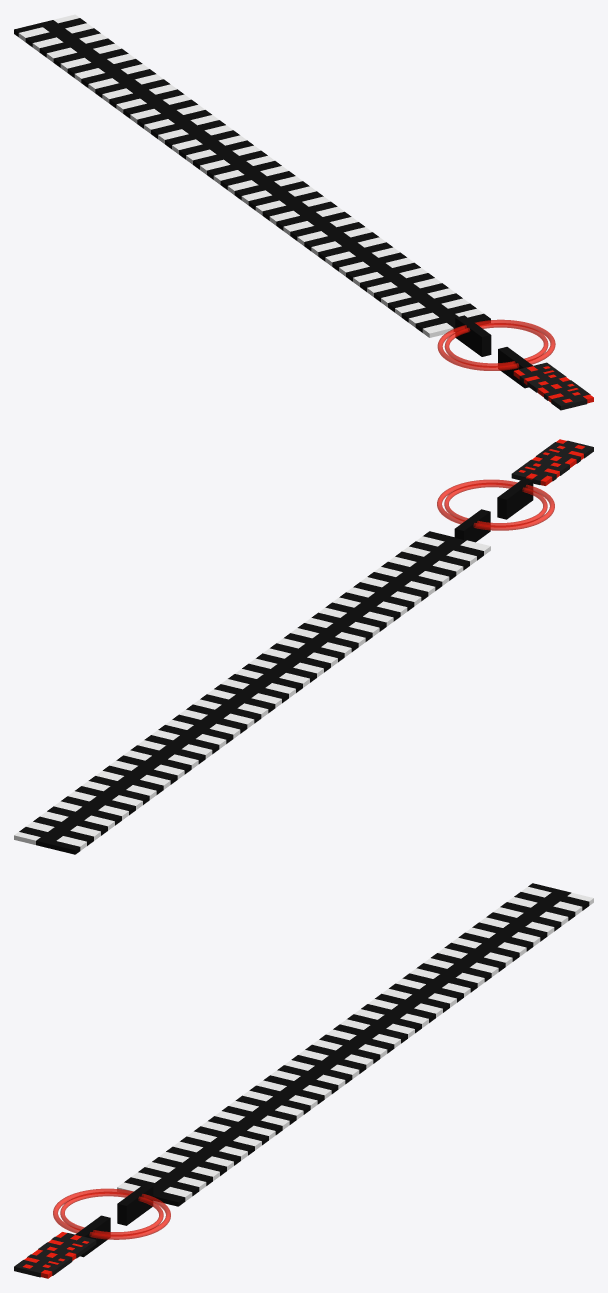
Rendered from LargeBridgeLast.FBX.
3 renders of one model, top to bottom at view 1: azimuth 30°, elevation 25°; view 2: azimuth 150°, elevation 25°; view 3: azimuth 330°, elevation 25°, orthographic.
Visible parts, largest first — view 1: Box096, Box095, Box092, Box004, Box006, Cylinder001, Box091, Cylinder003; view 2: Box096, Box095, Box091, Box006, Box092, Box004, Cylinder001, Cylinder003; view 3: Box096, Box095, Box092, Box004, Box006, Cylinder003, Box091, Cylinder001, Cylinder002.
Boxes of the visible parts, x1,y1,x2,y2 form: Box096: (14,18,490,332); Box095: (18,14,483,337); Box092: (455,315,491,356); Box004: (542,380,590,410); Box006: (518,362,566,392); Cylinder001: (437,325,519,370); Box091: (498,347,532,388); Cylinder003: (475,319,555,364); Box096: (19,531,483,854); Box095: (14,536,490,850); Box091: (497,478,533,519); Box006: (511,458,569,484); Box092: (454,509,490,542); Box004: (536,440,593,463); Cylinder001: (473,485,554,530); Cylinder003: (437,479,517,524); Box096: (124,883,589,1206); Box095: (117,886,593,1201); Box092: (117,1184,153,1225); Box004: (14,1250,72,1277); Box006: (38,1233,96,1258); Cylinder003: (89,1194,170,1239); Box091: (75,1215,110,1257); Cylinder001: (53,1188,133,1233); Cylinder002: (60,1191,129,1229).
Size of the model in its own units: 660 by 127 by 5884.
